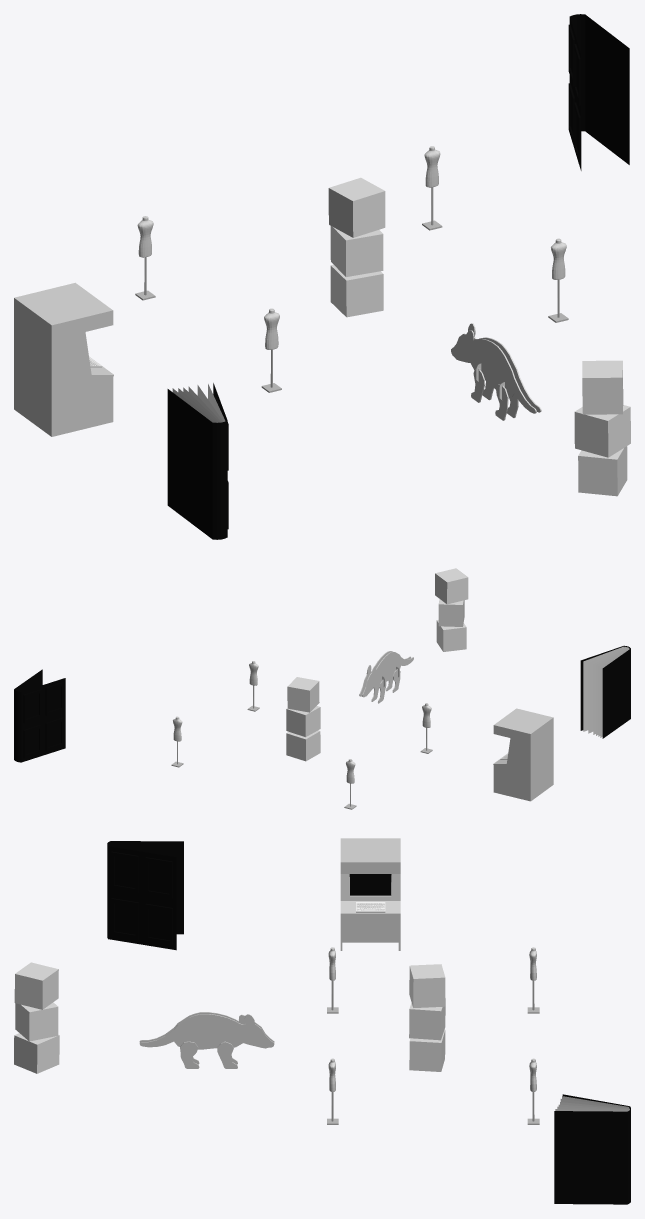
The model's file is piezas.glb.
The picture shows the model from 3 angles, top to bottom: view 1: azimuth 30°, elevation 25°; view 2: azimuth 150°, elevation 25°; view 3: azimuth 270°, elevation 25°; orthographic projection. The views are drawn at different scales.
Parts seen in each view (by area): view 1: Plane.014, Plane.005, Plane.004, Cube.008, Cube.009, Plane.006, Cube.021; view 2: Plane.014, Plane.005, Plane.004, Cube.008, Cube.009, Plane.006, Cube.021; view 3: Plane.004, Plane.005, Plane.014, Cube.009, Plane.006, Cube.008, Cube.021.
Boxes of the visible parts, x1,y1,x2,y2 form: Plane.014: (14,282,113,436); Plane.005: (167,383,228,539); Plane.004: (568,14,629,170); Cube.008: (328,177,385,317); Cube.009: (574,360,630,496); Plane.006: (451,323,541,420); Cube.021: (135,146,568,392); Plane.014: (493,708,553,801); Plane.005: (580,645,630,738); Plane.004: (14,669,65,762); Cube.008: (286,677,320,761); Cube.009: (435,568,468,651); Plane.006: (359,651,413,703); Cube.021: (171,661,432,809); Plane.004: (554,1094,630,1204); Plane.005: (107,841,183,950); Plane.014: (340,838,400,950); Cube.009: (14,962,59,1073); Plane.006: (139,1012,274,1068); Cube.008: (409,964,445,1071); Cube.021: (327,947,539,1124).
Size of the model in its own units: 20.17 by 3.25 by 18.99.
5 materials, 1 textured.
